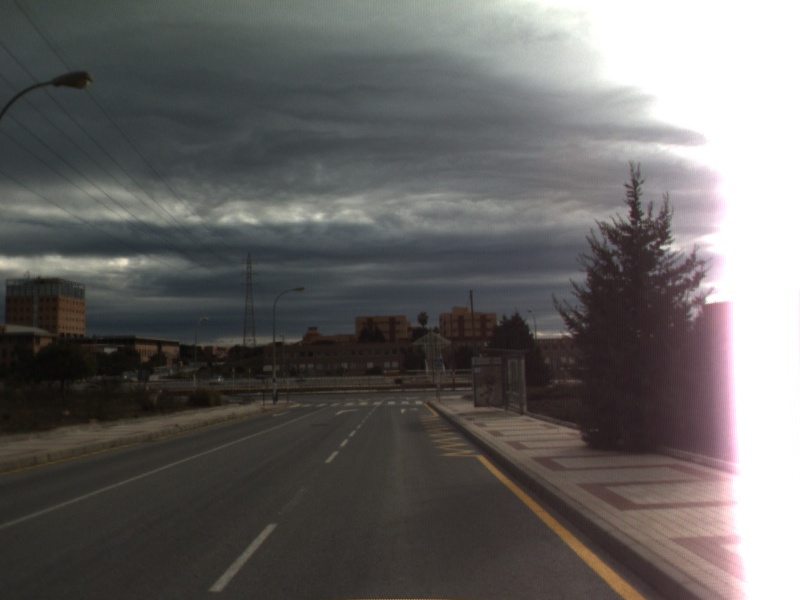RIGHT: (333, 406, 363, 417), (398, 405, 421, 416)
